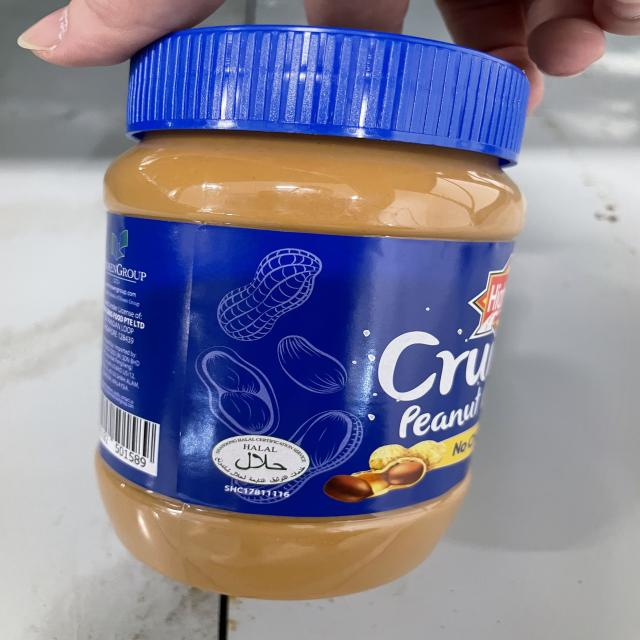object_name: (117, 39, 507, 596)
